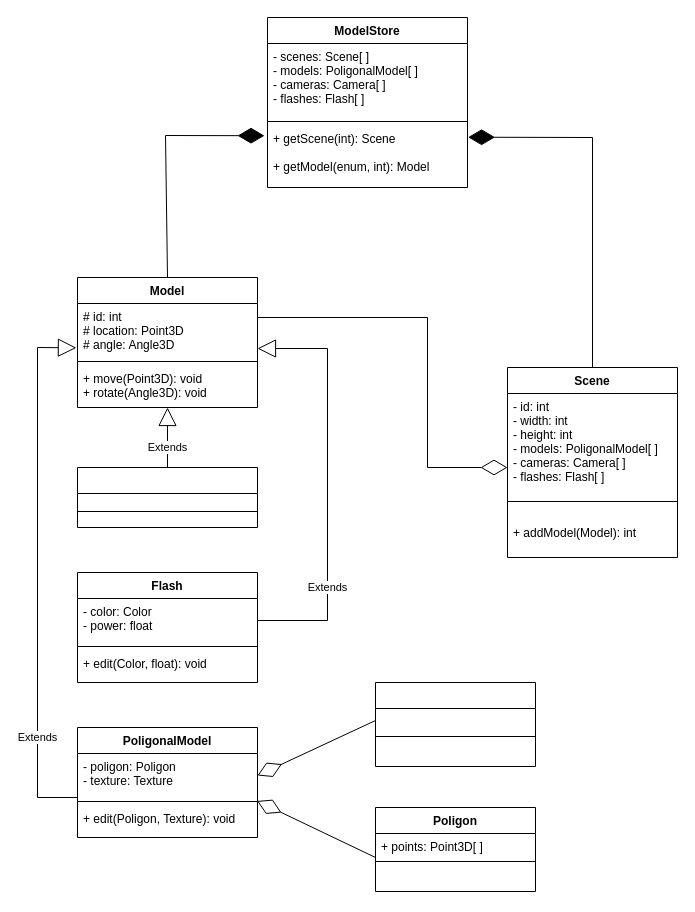
Image size: 695x912. Some labels were removed from this diagram. Each missing label, with the centre of its shape:
Camera: point (167, 497)
Texture: point (455, 724)
